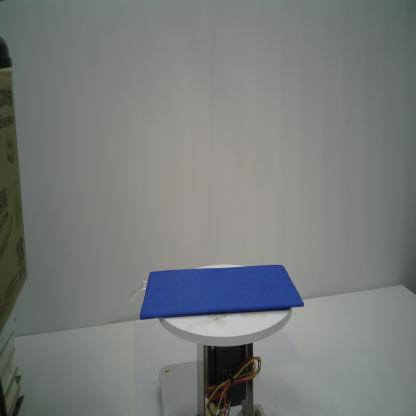Stationery: (124, 262, 305, 324)
